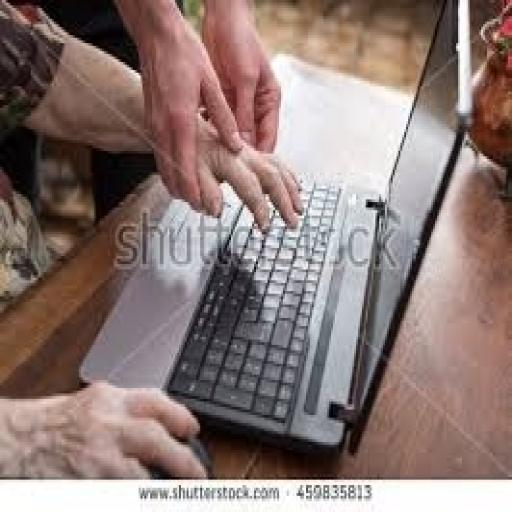using_laptop: (77, 0, 472, 458)
